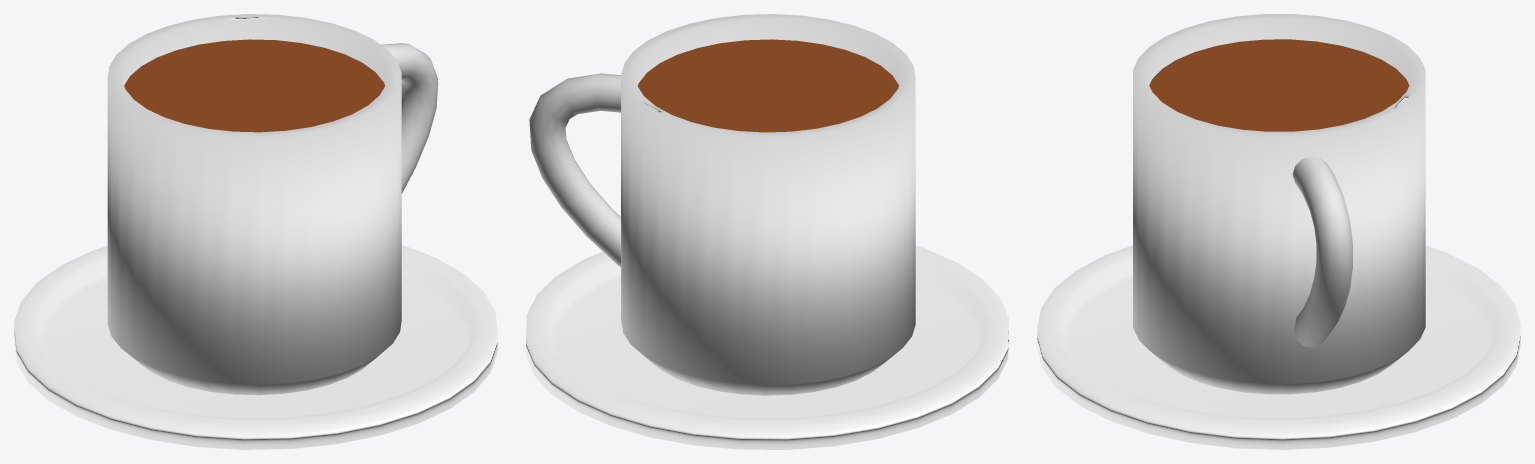
The model's file is TazaCorregida.fbx.
The picture shows the model from 3 angles, left to right: view 1: azimuth 30°, elevation 25°; view 2: azimuth 150°, elevation 25°; view 3: azimuth 270°, elevation 25°; orthographic projection.
Visible parts, largest first — view 1: Cilindro.002, Curva_Bezier.001; view 2: Cilindro.002, Curva_Bezier.001; view 3: Cilindro.002, Curva_Bezier.001.
Boxes of the visible parts, x1,y1,x2,y2 form: Cilindro.002: (14, 14, 497, 449); Curva_Bezier.001: (381, 43, 438, 193); Cilindro.002: (526, 14, 1008, 449); Curva_Bezier.001: (529, 73, 620, 266); Cilindro.002: (1037, 14, 1520, 449); Curva_Bezier.001: (1292, 156, 1352, 347).
Size of the model in its own units: 63.1 by 39.2 by 63.1.
